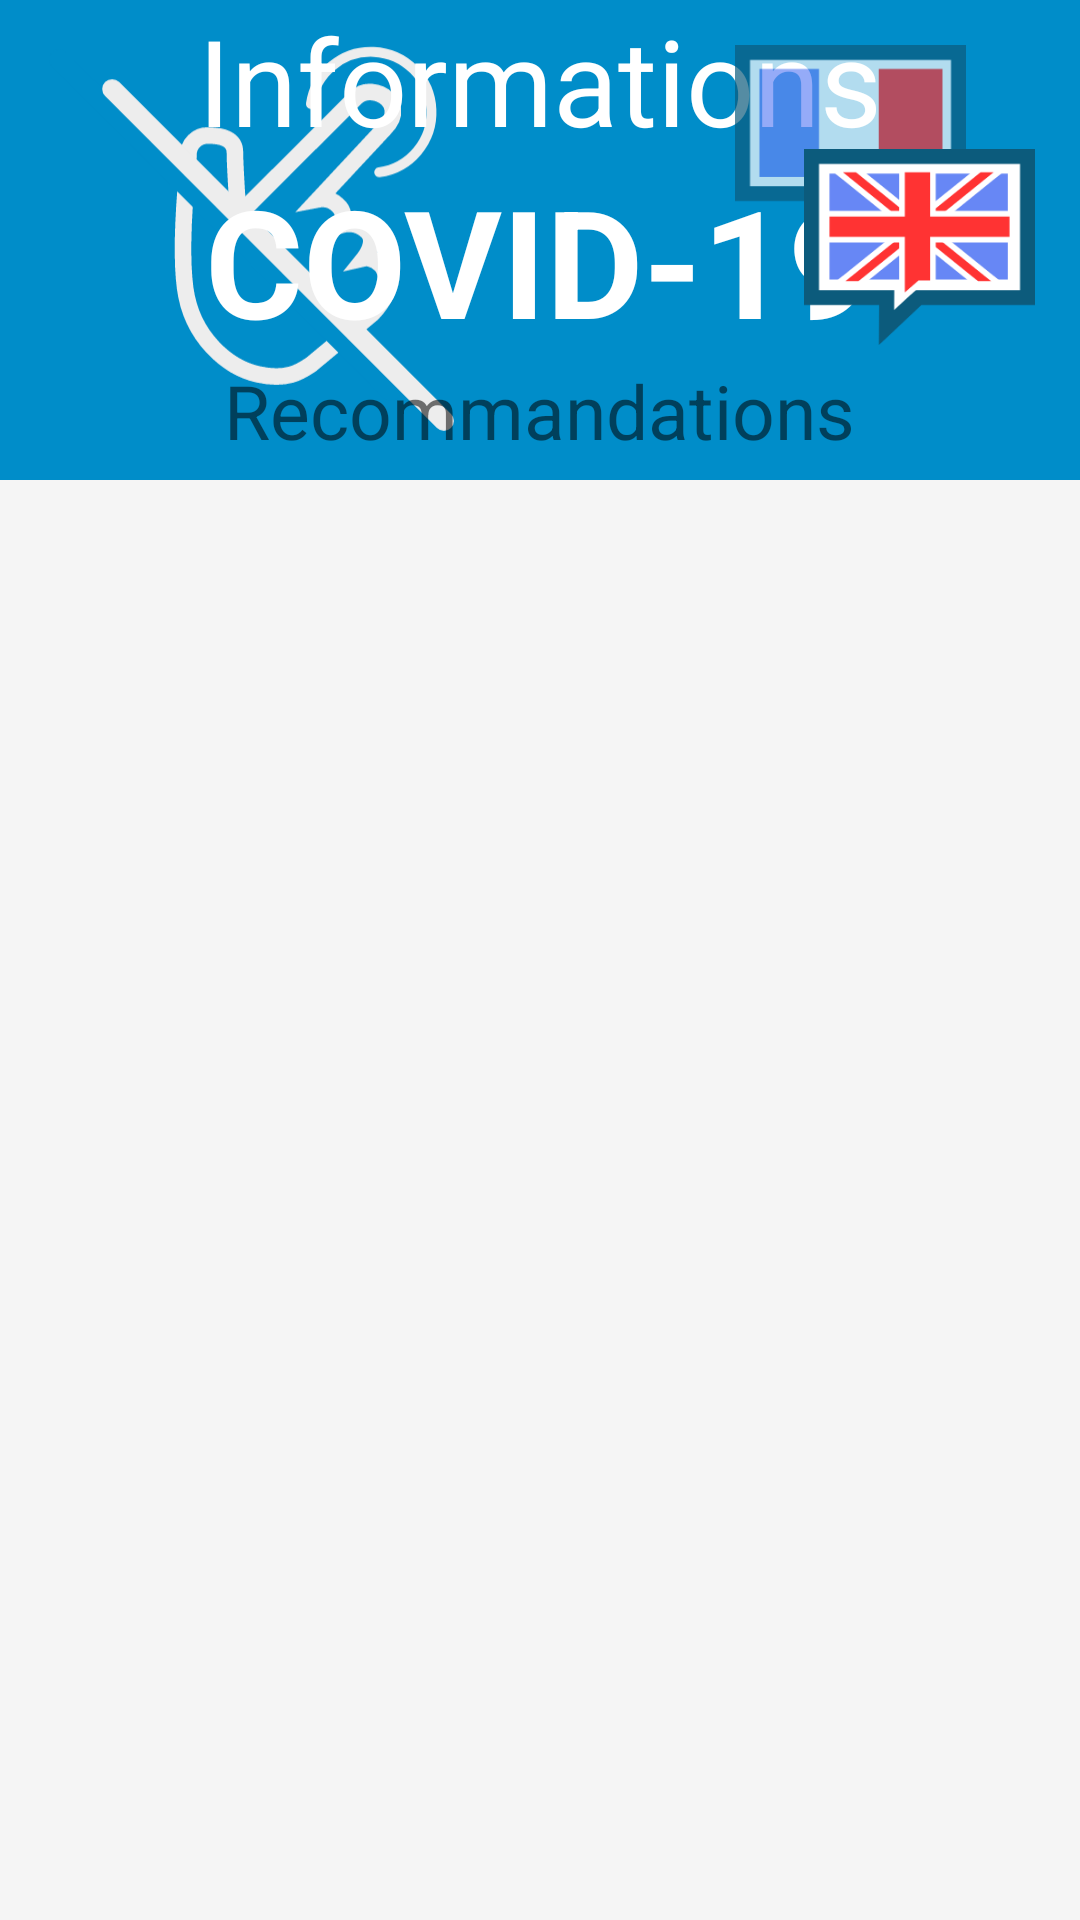

Locate icon controls on the screen. Image size 1080*1920, boxes as bbox=(x1, y1, x2, y2).
flaguk: bbox=(804, 149, 1035, 344)
